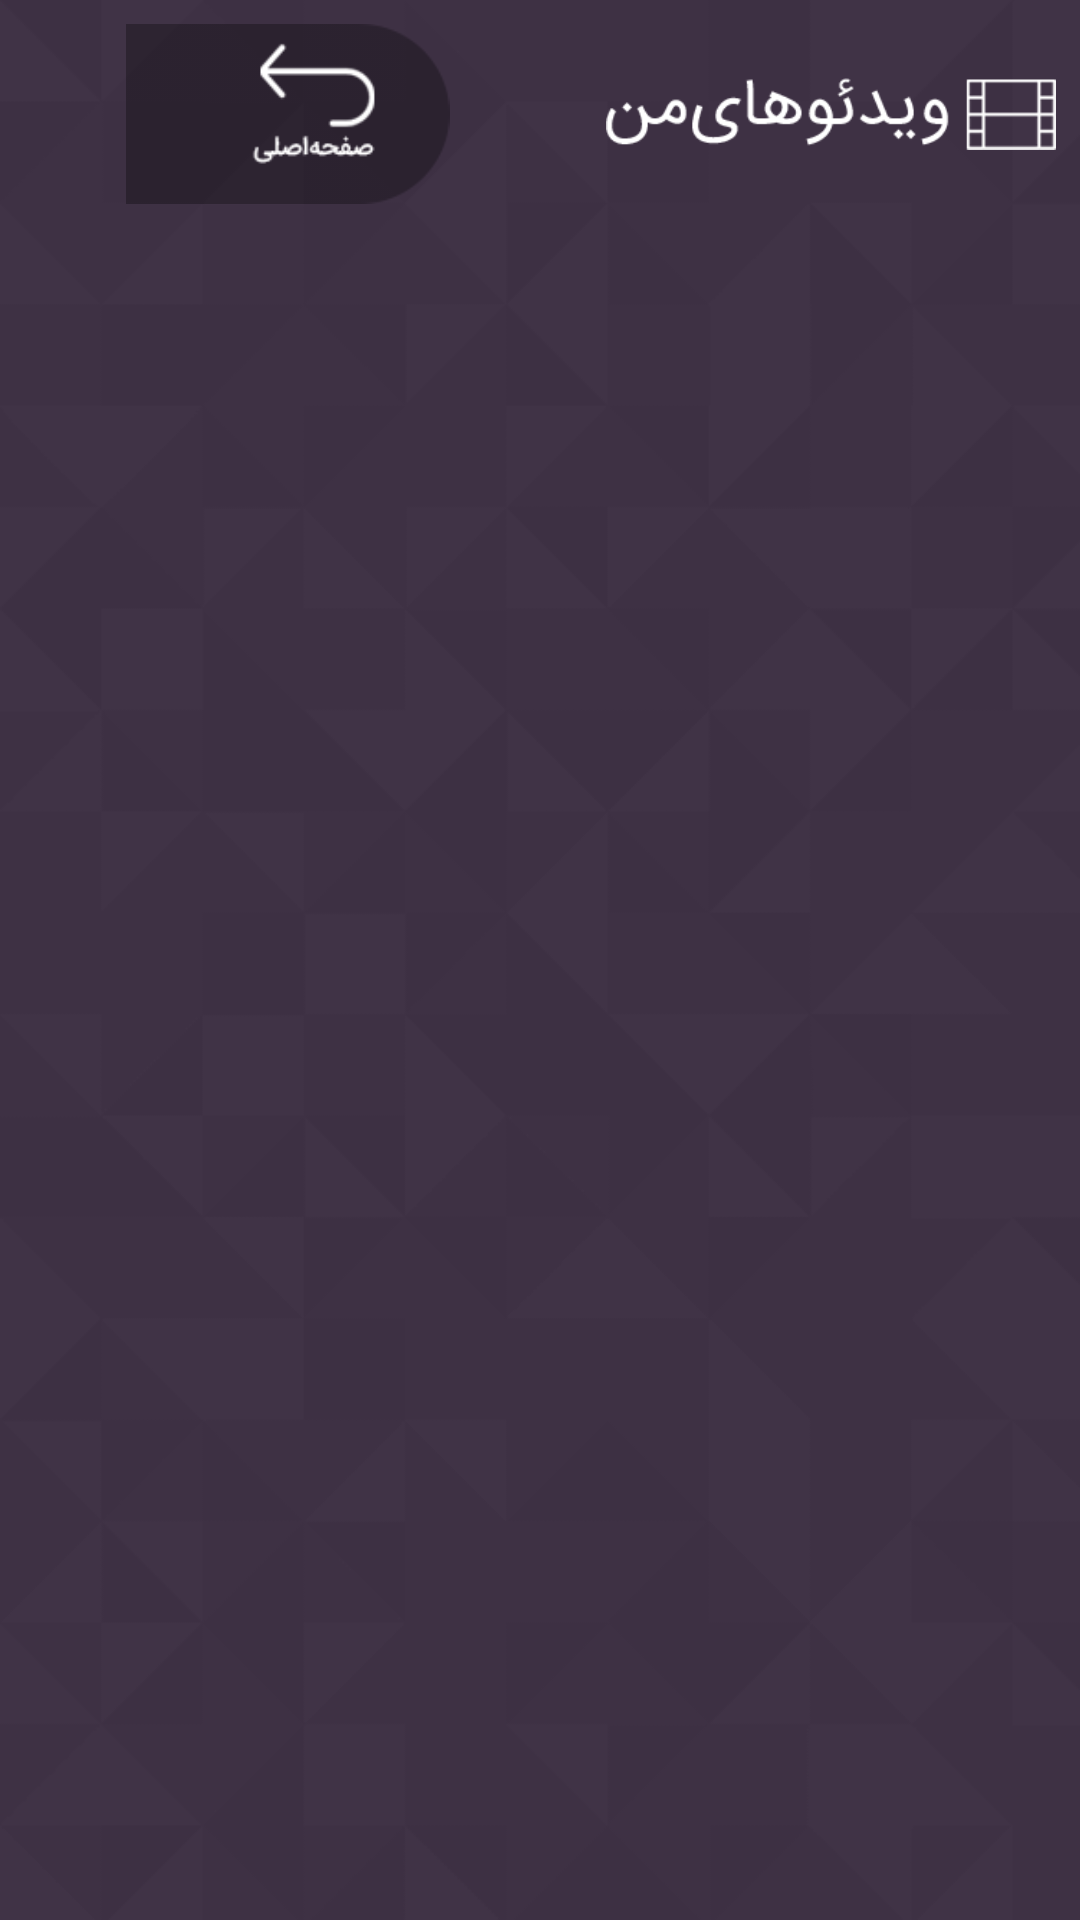

Icons on this 1080px×1920px Android screen, each with the point to tap as (x,y):
backtoback: (288,114)
